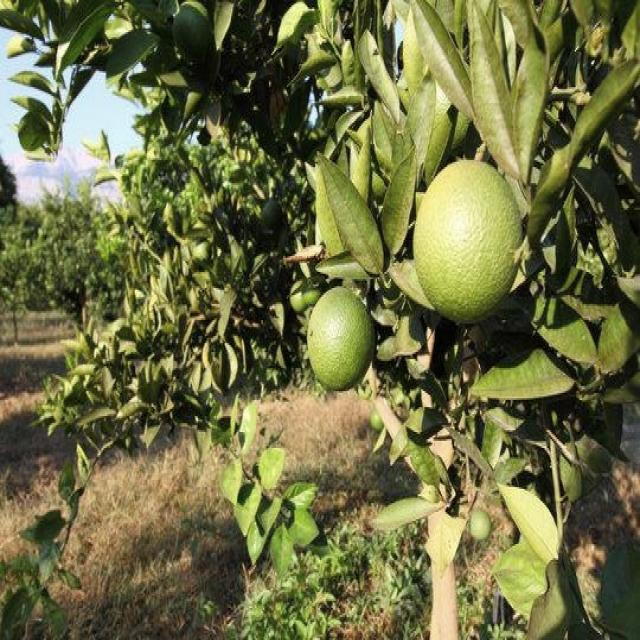Jeruk Belum Matang: (414, 160, 526, 326), (306, 286, 376, 395), (175, 2, 210, 57), (18, 112, 46, 150), (470, 510, 492, 542), (292, 279, 308, 311)
